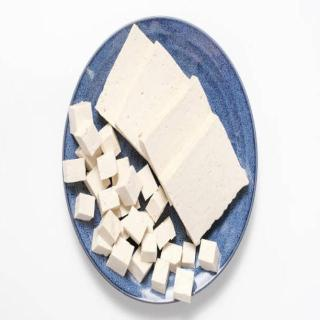Tahu: (59, 17, 254, 306)
